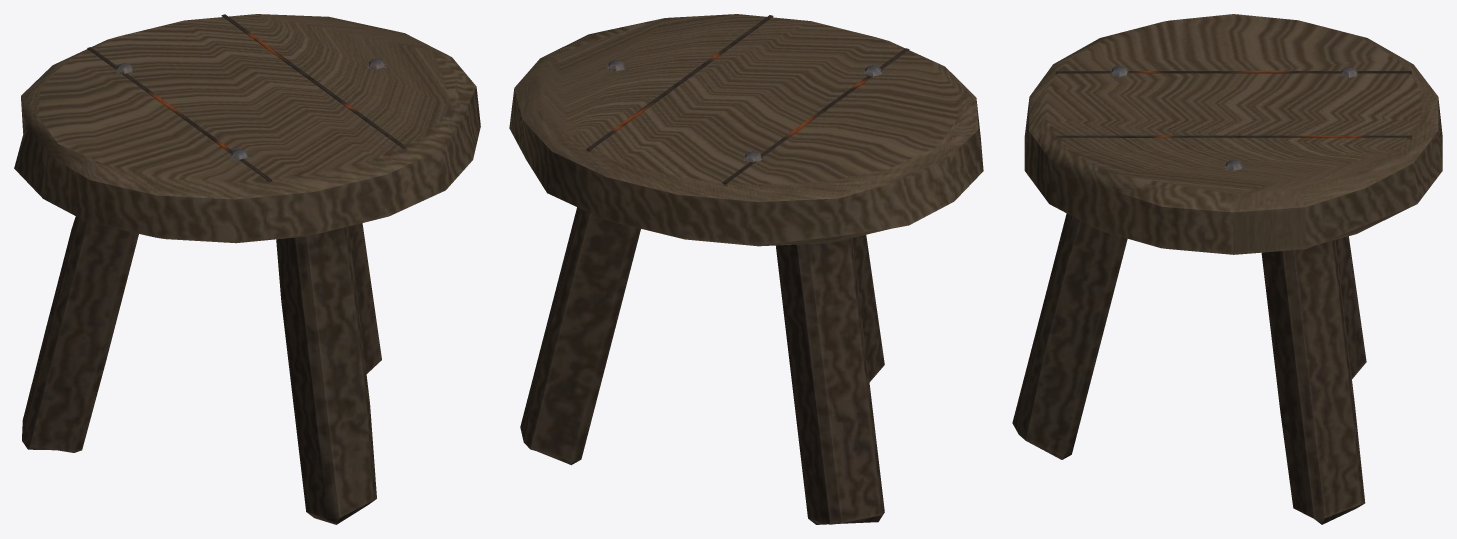
Rendered from stool.glb.
The picture shows the model from 3 angles, left to right: view 1: azimuth 30°, elevation 25°; view 2: azimuth 150°, elevation 25°; view 3: azimuth 270°, elevation 25°; orthographic projection. The views are drawn at different scales.
Parts seen in each view (by area): view 1: stool; view 2: stool; view 3: stool.
Part boxes in pixels (left/top/right/bottom): stool: left=14, top=14, right=480, bottom=524; stool: left=509, top=14, right=983, bottom=524; stool: left=1012, top=14, right=1442, bottom=524.
Bounding box in the file's own units: 0.4619 × 0.3818 × 0.4225.
Materials: 1 (1 with a texture image).
